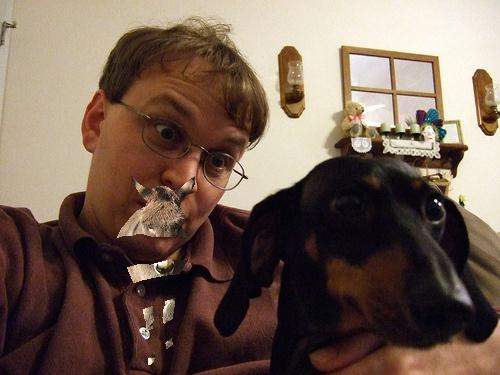tampered: (118, 176, 195, 365)
